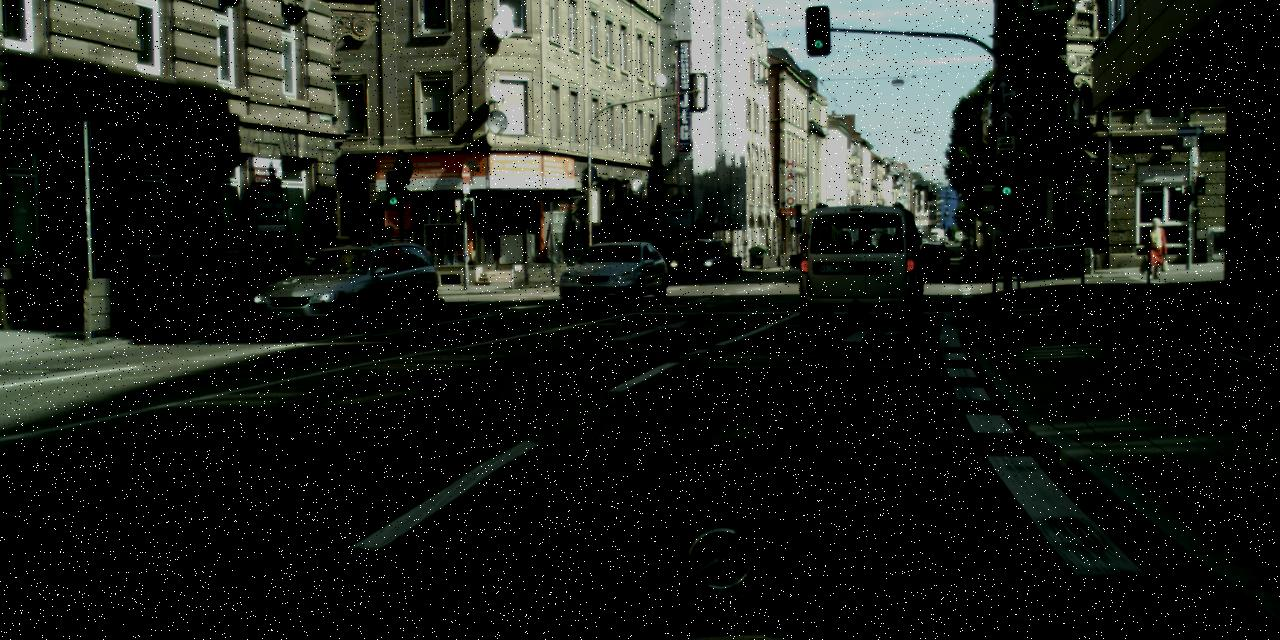ped: (374, 225, 402, 294), (1142, 216, 1166, 278)
